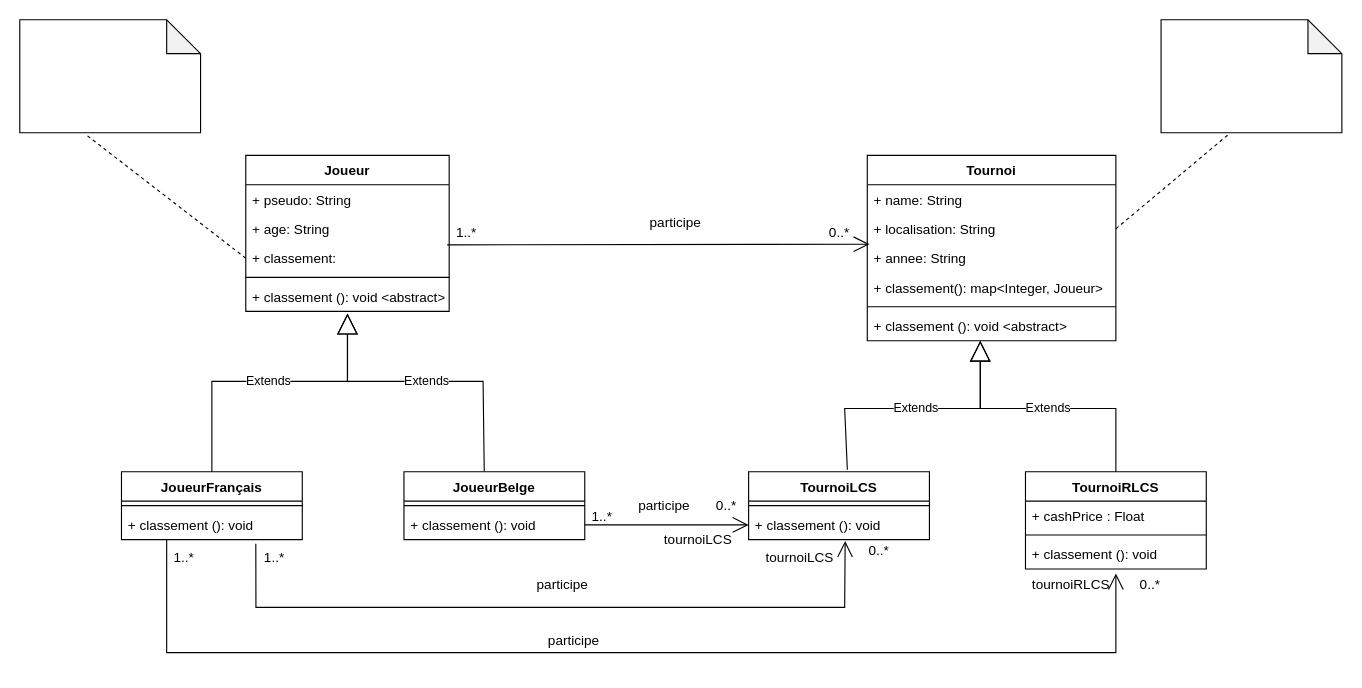
Image size: 1362x688. Some labels were removed from this diagram. Here are the shapes that lost their labels. From the top down, the centre of each, then its label:
(110,76): Renvoie le classement du joueur en cours
(1251,76): Renvoie le classement du tournoi en cours
